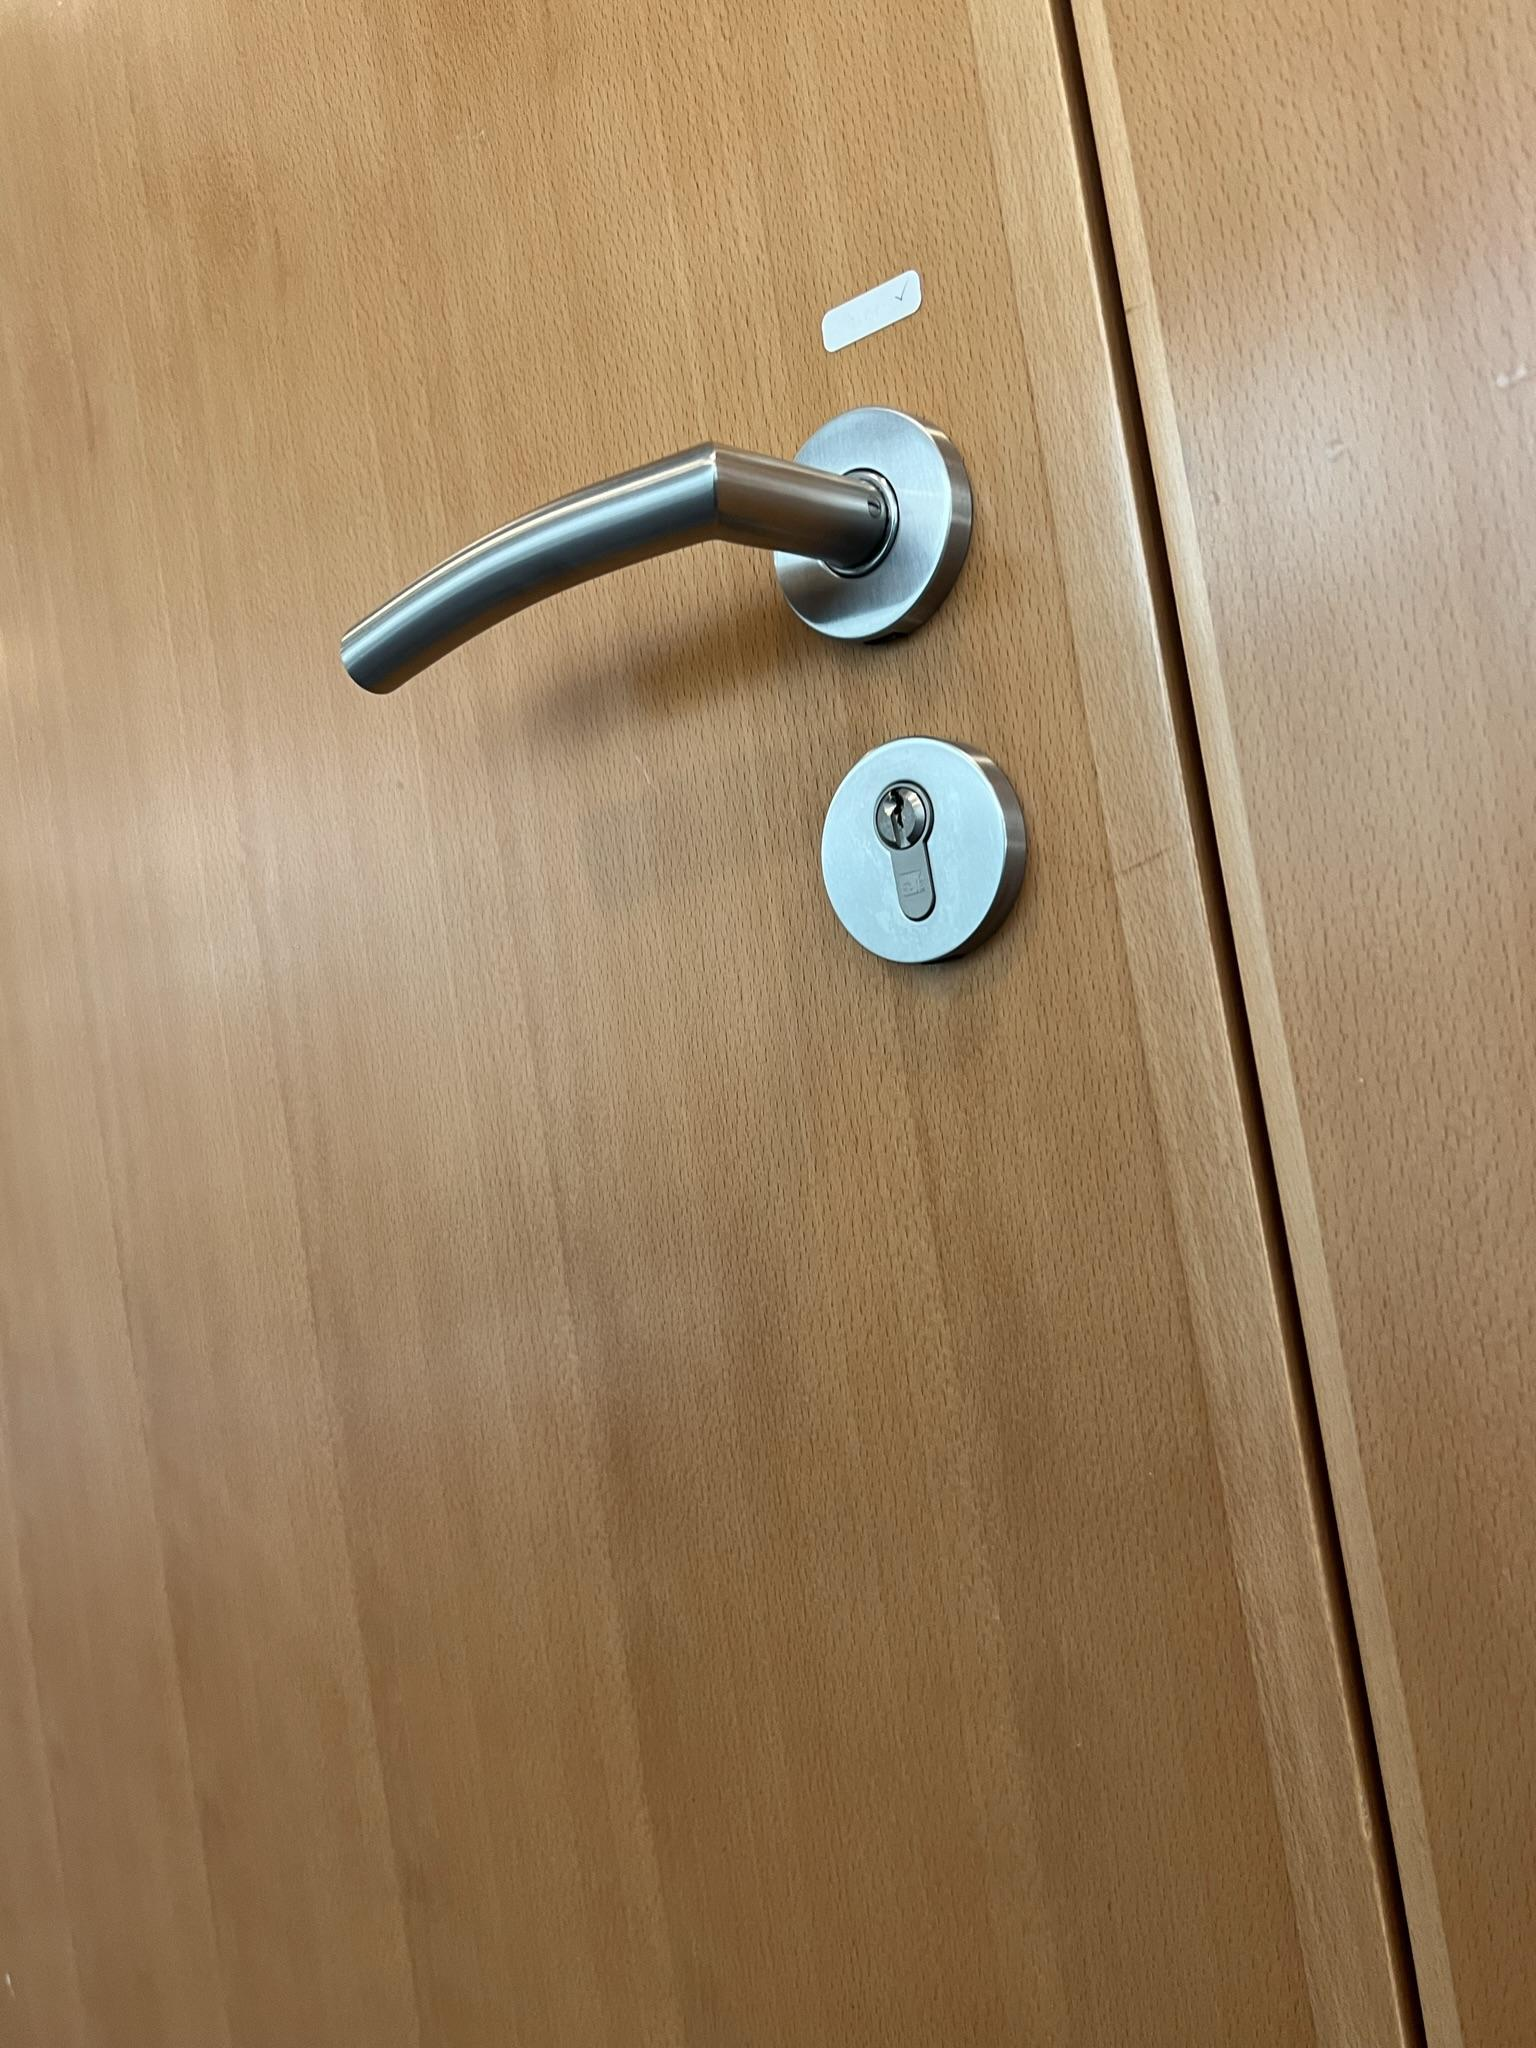handle: (323, 402, 1000, 718)
